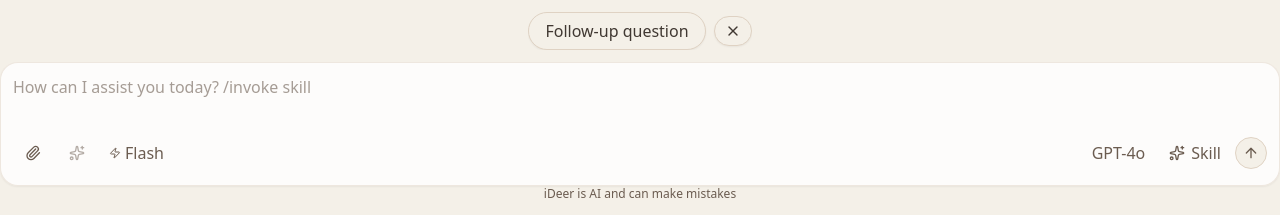
Test: InputBox › followup suggestions › hides followups when close button is clicked
This screenshot has width=1280, height=215.
Expected: the button "Follow-up question" is shown, top-left (528, 12), bottom-right (706, 50)
Note: Click the close button (the one with the X icon, labeled "Close")
Step 1. Click the button named "Close" → click(732, 31), box top-left (714, 16), bottom-right (752, 46)
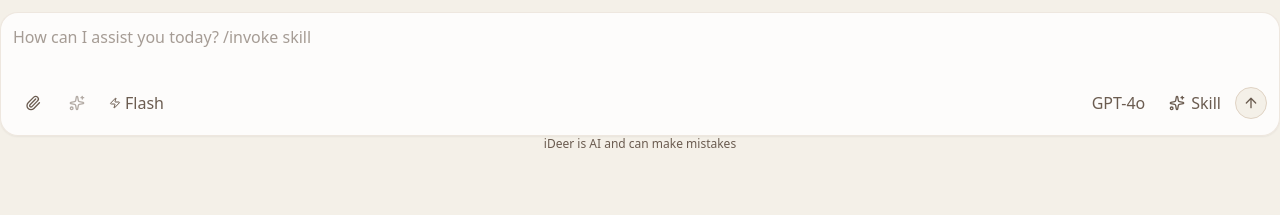
Result: the button "Follow-up question" is gone
